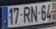1: (8, 7, 13, 25)
4: (45, 3, 52, 21)
6: (40, 4, 46, 21)
7: (13, 7, 20, 25)
N: (30, 5, 38, 23)
R: (22, 6, 30, 23)
